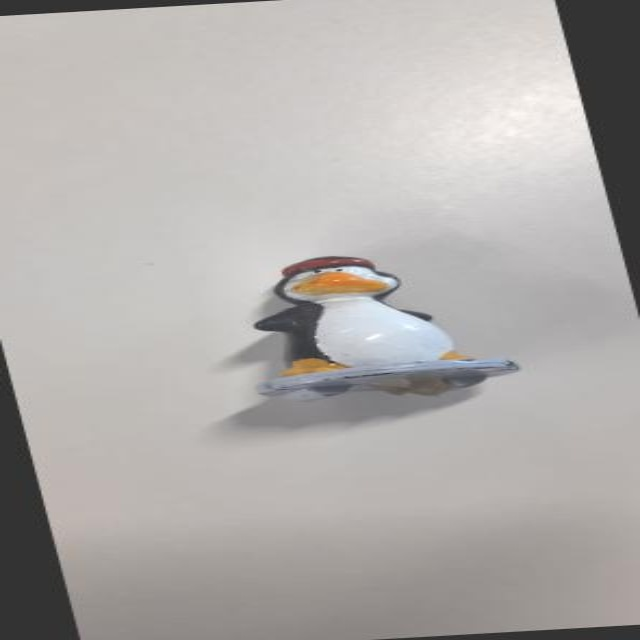Penguin: (222, 241, 517, 405)
